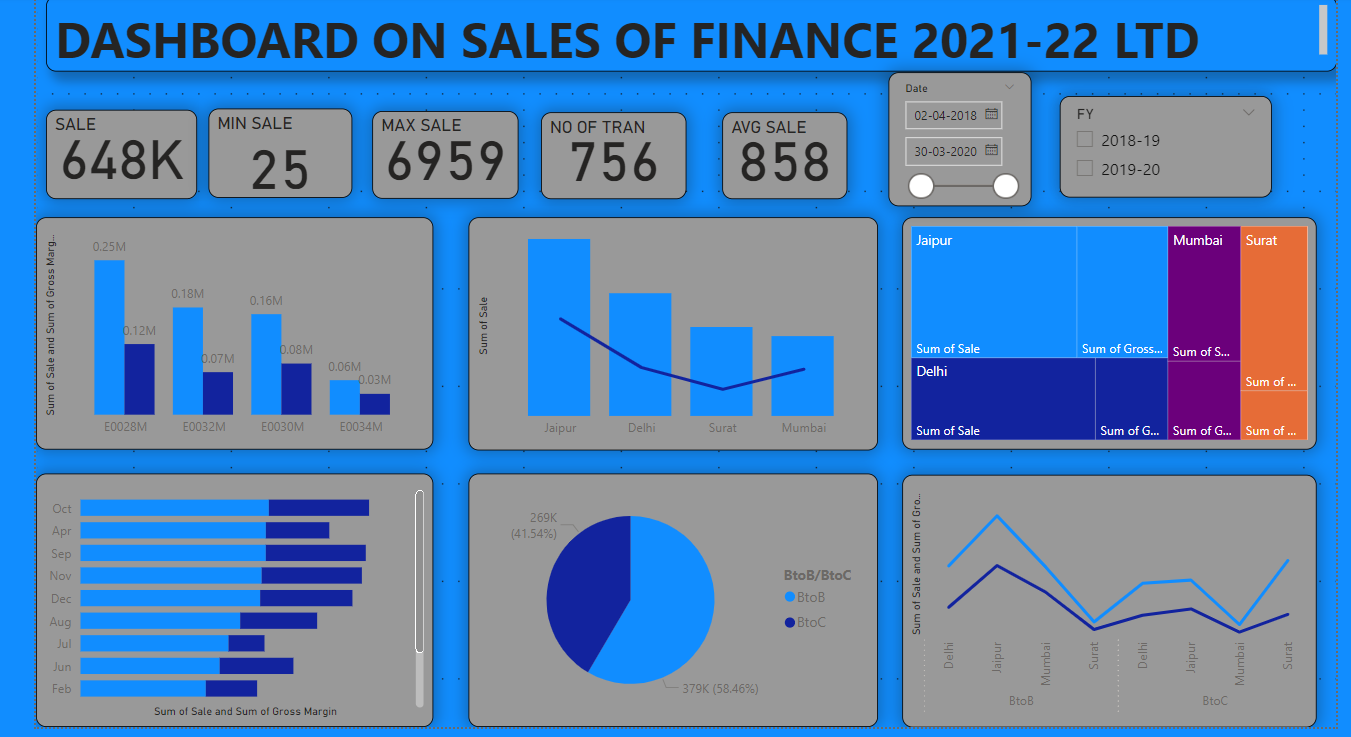

Layout of this report page (visuals, bound fields, positions):
{"tool":"powerbi","page":{"name":"Page 1","canvas":[1280,720],"ordinal":0},"visuals":[{"type":"textbox","box":[9.6,0,1271,74],"z":0},{"type":"card","title":"SALE","fields":{"Values":["Sum(Data.Sale)"]},"box":[9.8,112.5,149.1,88],"z":1000},{"type":"card","title":"AVG SALE","fields":{"Values":["Avg(Data.Sale)"]},"box":[676,114.9,123.5,85.6],"z":2000},{"type":"card","title":"NO OF TRAN","fields":{"Values":["CountNonNull(Data.Sale)"]},"box":[497.5,114.9,143,85.6],"z":3000},{"type":"card","title":"MIN SALE","fields":{"Values":["Min(Data.Sale)"]},"box":[169.9,111.2,141.8,88],"z":4000},{"type":"card","title":"MAX SALE","fields":{"Values":["Max(Data.Sale)"]},"box":[331.3,113.7,144.2,86.8],"z":5000},{"type":"clusteredColumnChart","fields":{"Category":["Data.Product Code"],"Y":["Sum(Data.Sale)","Sum(Data.Gross Margin)"]},"box":[0,217.6,391.2,228.6],"z":6000},{"type":"lineClusteredColumnComboChart","fields":{"Category":["Data.Location"],"Y":["Sum(Data.Sale)"],"Y2":["Sum(Data.Gross Margin)"]},"box":[425.4,217.6,403.4,229.8],"z":7000},{"type":"treemap","fields":{"Group":["Data.Location"],"Values":["Sum(Data.Sale)","Sum(Data.Gross Margin)"]},"box":[853.2,217.6,408.3,228.6],"z":8000},{"type":"barChart","fields":{"Category":["Data.Month"],"Y":["Sum(Data.Sale)","Sum(Data.Gross Margin)"]},"box":[0,470.6,391.2,249.4],"z":9000},{"type":"pieChart","fields":{"Y":["Sum(Data.Sale)"],"Category":["Data.BtoB/BtoC"]},"box":[425.4,470.6,403.4,249.4],"z":10000},{"type":"lineChart","fields":{"Category":["Data.BtoB/BtoC","Data.Location"],"Y":["Sum(Data.Sale)","Sum(Data.Gross Margin)"]},"box":[853,471,408,249],"z":11000},{"type":"slicer","fields":{"Values":["Data.Date"]},"box":[839.8,74.6,140.6,132],"z":12000},{"type":"slicer","fields":{"Values":["Data.FY"]},"box":[1008.5,99,209,100.2],"z":13000}]}

Visuals, with their boxes in screenshot pixels (x1, y1, x2, y2):
textbox: [left=48, top=0, right=1328, bottom=67]
"SALE" card: [left=49, top=106, right=199, bottom=195]
"AVG SALE" card: [left=720, top=109, right=844, bottom=195]
"NO OF TRAN" card: [left=540, top=109, right=684, bottom=195]
"MIN SALE" card: [left=210, top=105, right=353, bottom=194]
"MAX SALE" card: [left=372, top=107, right=518, bottom=195]
clusteredColumnChart - Data.Product Code x Sum(Data.Sale): [left=39, top=212, right=433, bottom=442]
lineClusteredColumnComboChart - Data.Location x Sum(Data.Sale): [left=467, top=212, right=873, bottom=444]
treemap - Data.Location x Sum(Data.Sale): [left=898, top=212, right=1309, bottom=442]
barChart - Data.Month x Sum(Data.Sale): [left=39, top=467, right=433, bottom=718]
pieChart - Sum(Data.Sale) x Data.BtoB/BtoC: [left=467, top=467, right=873, bottom=718]
lineChart - Data.BtoB/BtoC x Data.Location: [left=898, top=467, right=1309, bottom=718]
slicer - Data.Date: [left=885, top=68, right=1026, bottom=201]
slicer - Data.FY: [left=1054, top=93, right=1265, bottom=194]
